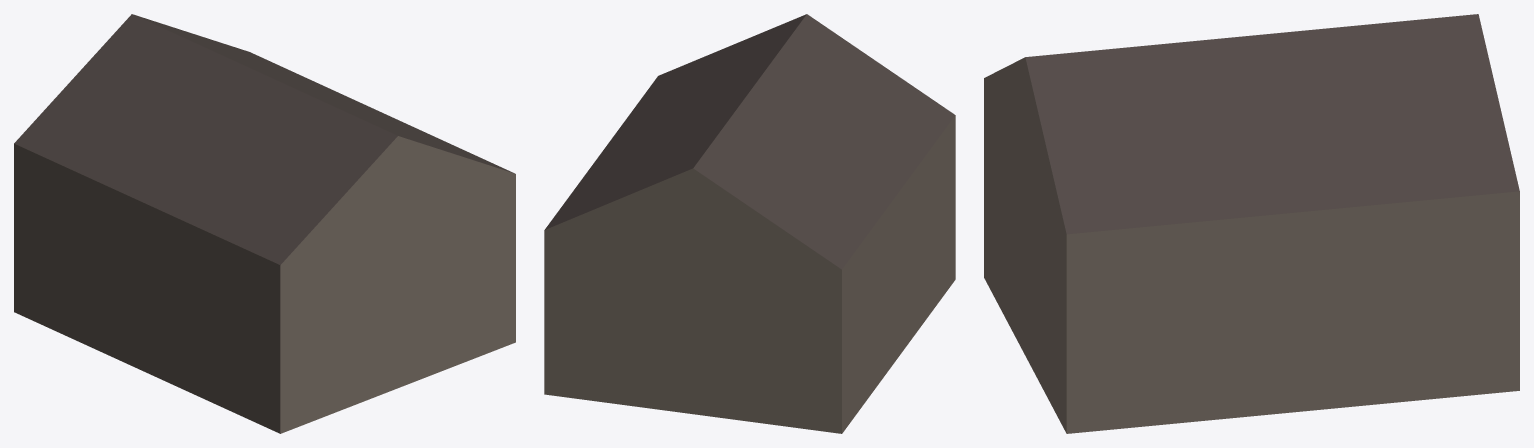
3 views of the same model, side by side, from view 1: azimuth 30°, elevation 25°; view 2: azimuth 150°, elevation 25°; view 3: azimuth 270°, elevation 25° (orthographic). The views are drawn at different scales.
Parts seen in each view (by area): view 1: HP-w1376988680; view 2: HP-w1376988680; view 3: HP-w1376988680.
Boxes of the visible parts, left/top/right/bottom form: HP-w1376988680: left=14, top=14, right=515, bottom=433; HP-w1376988680: left=544, top=14, right=955, bottom=433; HP-w1376988680: left=984, top=14, right=1519, bottom=433.
Bounding box in the file's own units: 12.86 × 8.98 × 14.6.
